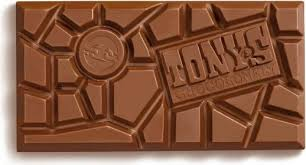Chocolate: (12, 1, 306, 158)
